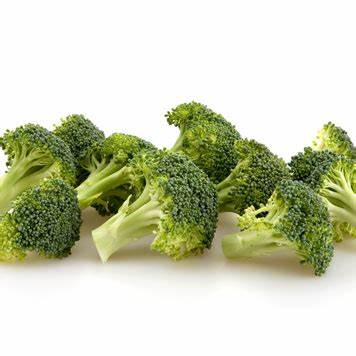Broccoli: (72, 133, 217, 269), (159, 87, 283, 211), (212, 168, 344, 283), (274, 117, 356, 254), (56, 124, 167, 216), (0, 116, 78, 221), (0, 178, 83, 273)
